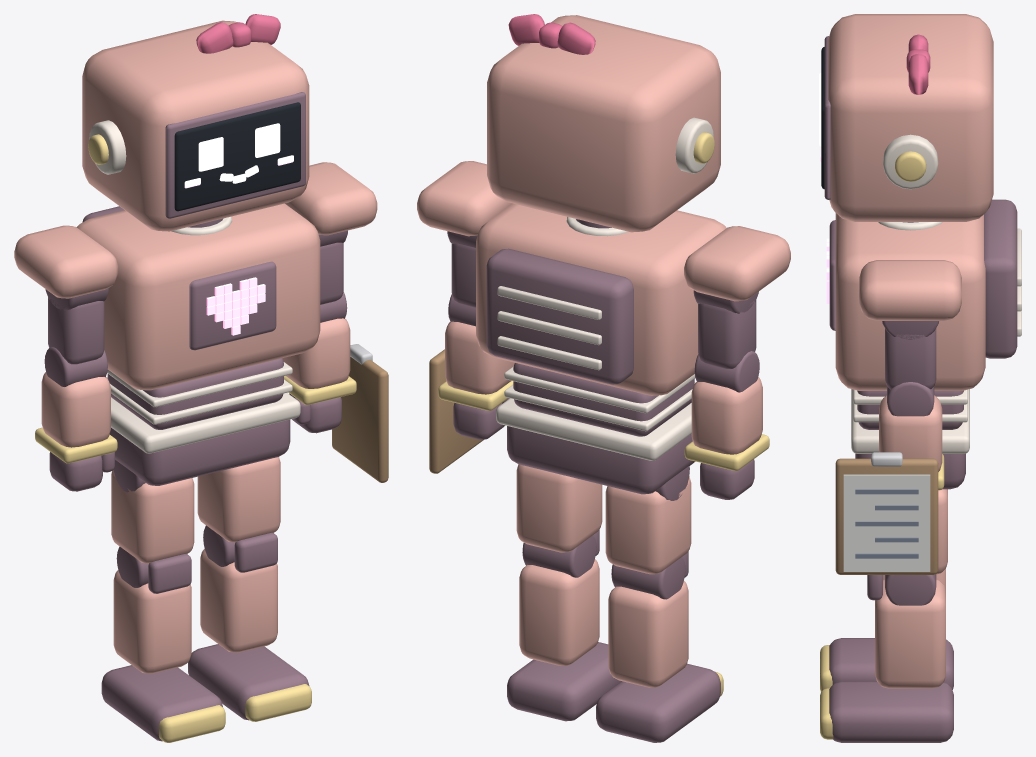
3 renders of one model, left to right at view 1: azimuth 30°, elevation 25°; view 2: azimuth 150°, elevation 25°; view 3: azimuth 270°, elevation 25°, orthographic. The views are drawn at different scales.
Parts seen in each view (by area): view 1: head_mesh, spine_mesh, knee_R_mesh, knee_L_mesh, elbow_L_mesh, hips_mesh, shoulder_R_mesh, elbow_R_mesh, hip_R_mesh, shoulder_L_mesh, hip_L_mesh; view 2: head_mesh, spine_mesh, knee_R_mesh, knee_L_mesh, hips_mesh, shoulder_R_mesh, elbow_R_mesh, elbow_L_mesh, hip_R_mesh, shoulder_L_mesh, hip_L_mesh, neck_mesh; view 3: head_mesh, spine_mesh, elbow_L_mesh, knee_L_mesh, shoulder_L_mesh, knee_R_mesh, hips_mesh, hip_L_mesh, neck_mesh.
Boxes of the visible parts, x1,y1,x2,y2 form: head_mesh: (82,14,309,231); spine_mesh: (76,203,320,429); knee_R_mesh: (101,546,225,742); knee_L_mesh: (188,525,311,721); elbow_L_mesh: (282,292,388,482); hips_mesh: (109,393,300,485); shoulder_R_mesh: (14,225,118,364); elbow_R_mesh: (35,347,117,491); hip_R_mesh: (111,460,194,563); shoulder_L_mesh: (285,162,377,304); hip_L_mesh: (197,457,280,542); head_mesh: (487,14,720,232); spine_mesh: (476,203,726,436); knee_R_mesh: (596,551,723,742); knee_L_mesh: (507,530,621,721); hips_mesh: (496,398,695,494); shoulder_R_mesh: (684,226,790,368); elbow_R_mesh: (684,351,769,499); elbow_L_mesh: (429,294,514,473); hip_R_mesh: (605,466,691,574); shoulder_L_mesh: (417,161,511,307); hip_L_mesh: (516,464,602,552); neck_mesh: (566,217,628,236); head_mesh: (819,14,993,221); spine_mesh: (826,199,1021,429); elbow_L_mesh: (835,382,944,574); knee_L_mesh: (820,574,953,742); shoulder_L_mesh: (859,260,961,389); knee_R_mesh: (820,568,953,691); hips_mesh: (851,389,969,489); hip_L_mesh: (934,489,947,574); neck_mesh: (878,222,942,230).
Bounding box in the file's own units: 0.98 × 1.92 × 0.514.
